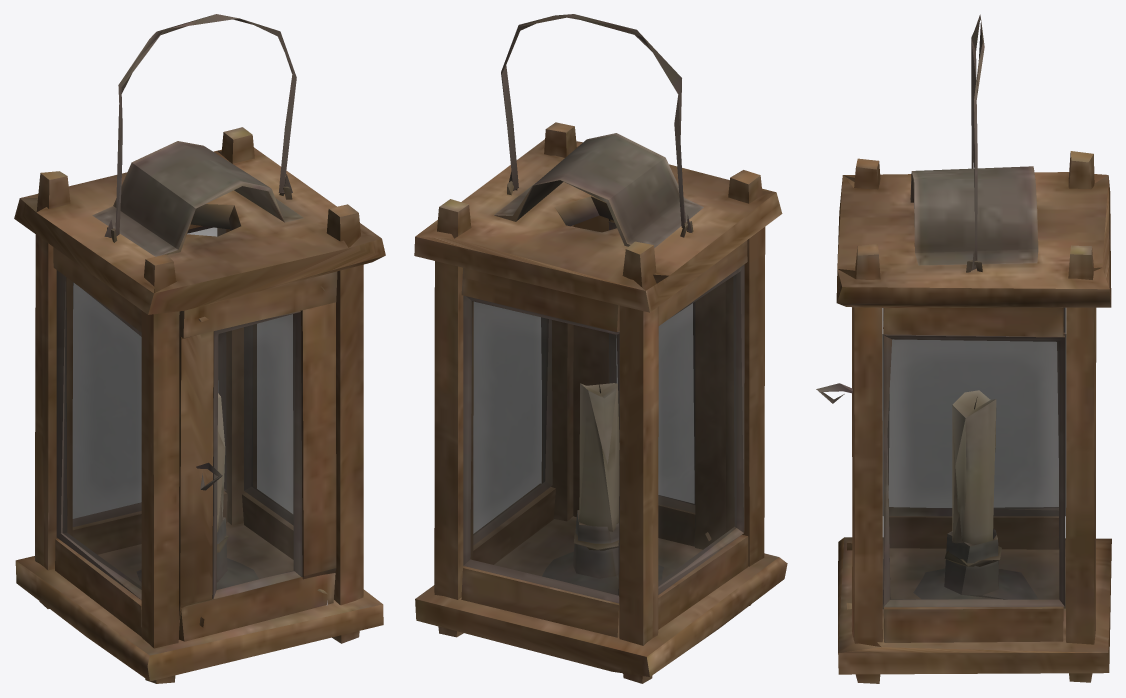
The model's file is lantern.glb.
3 renders of one model, left to right at view 1: azimuth 30°, elevation 25°; view 2: azimuth 150°, elevation 25°; view 3: azimuth 270°, elevation 25°, orthographic.
Visible parts, largest first — view 1: lantern; view 2: lantern; view 3: lantern.
Part boxes in pixels (box(x1,y1,x2,y2)): lantern: box(14, 14, 385, 683); lantern: box(414, 14, 787, 683); lantern: box(816, 14, 1111, 683).
Bounding box in the file's own units: 0.2191 × 0.5278 × 0.2349.
2 materials, 2 textured.
